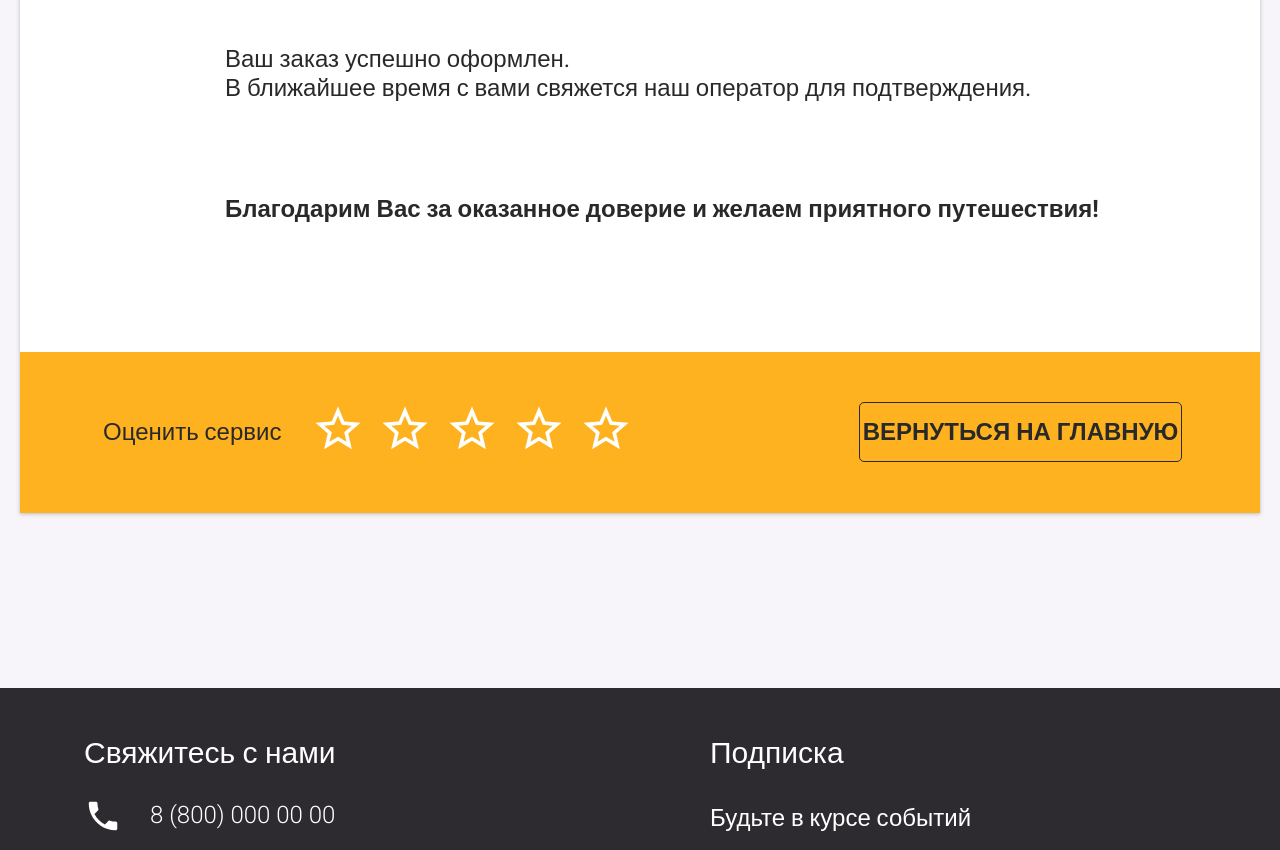
Test: оценка сервиса › клик ставит оценку и благодарит
(page scrolled)
Click the button named "Оценка 4 из 5".
click(540, 432)  # box [512,402,566,463]
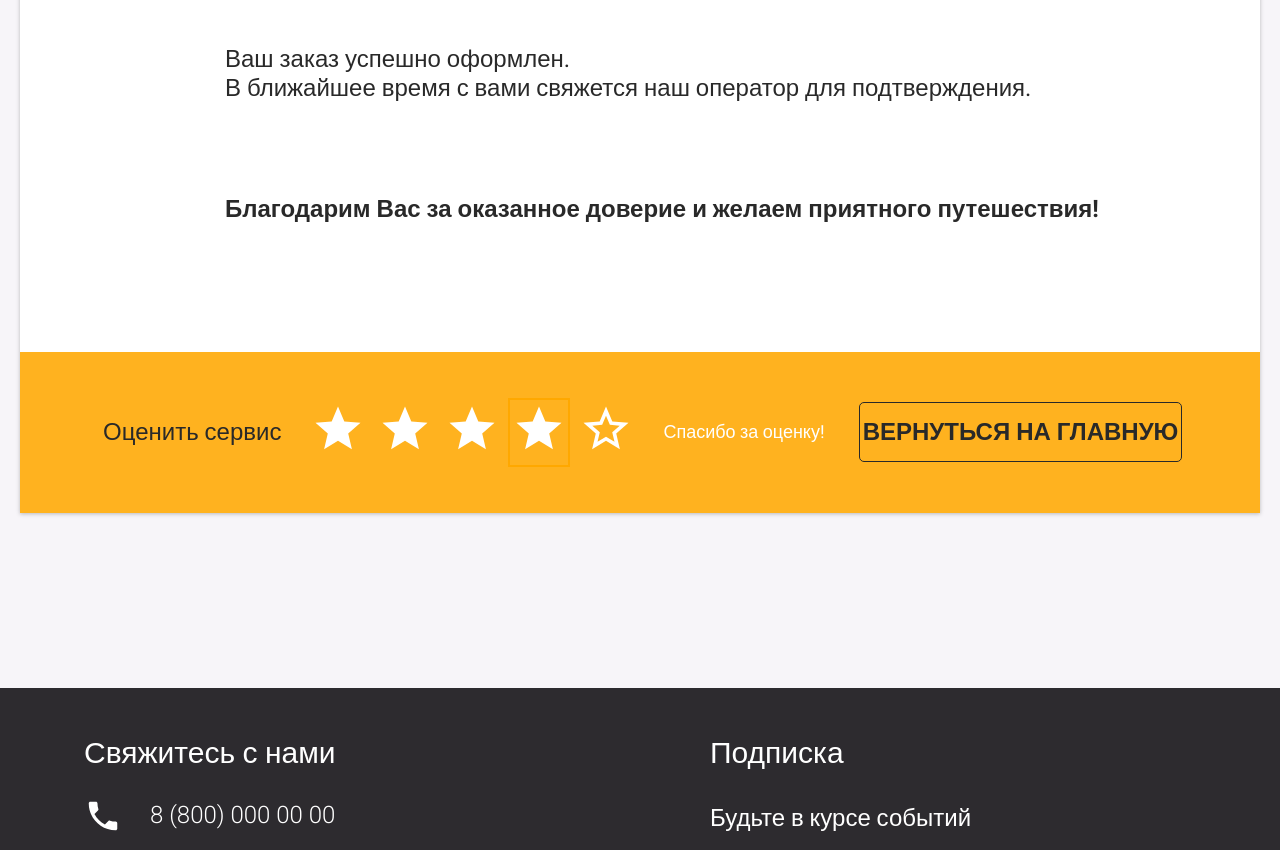
Expected: the message reads "Спасибо за оценку!", [664,422,825,442]
